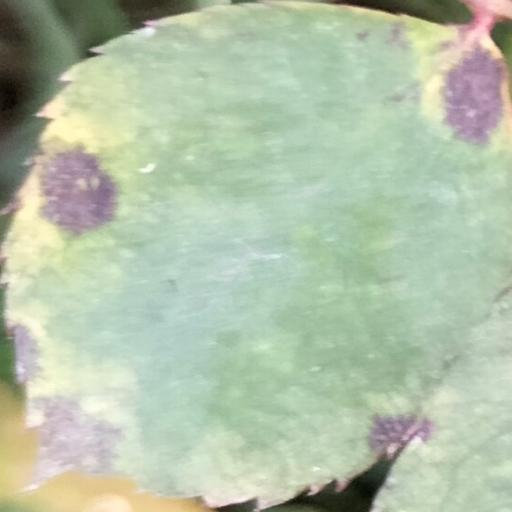black_spot: (4, 2, 511, 511)
